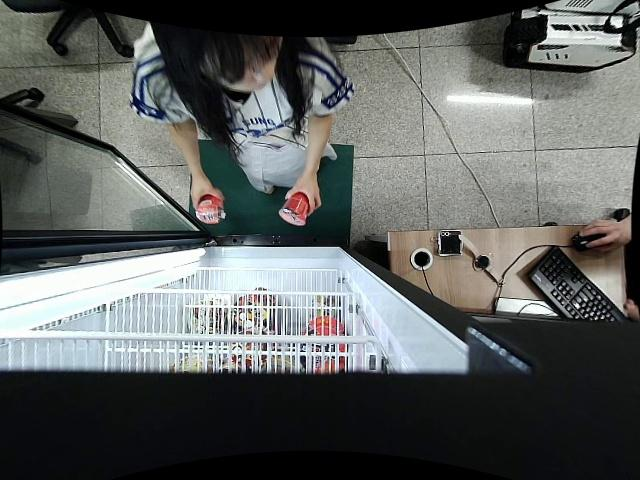00_hand: (579, 220, 630, 255), (284, 180, 321, 218), (189, 180, 225, 211)
02_shinRamen_S: (280, 192, 310, 227), (197, 195, 226, 225)
